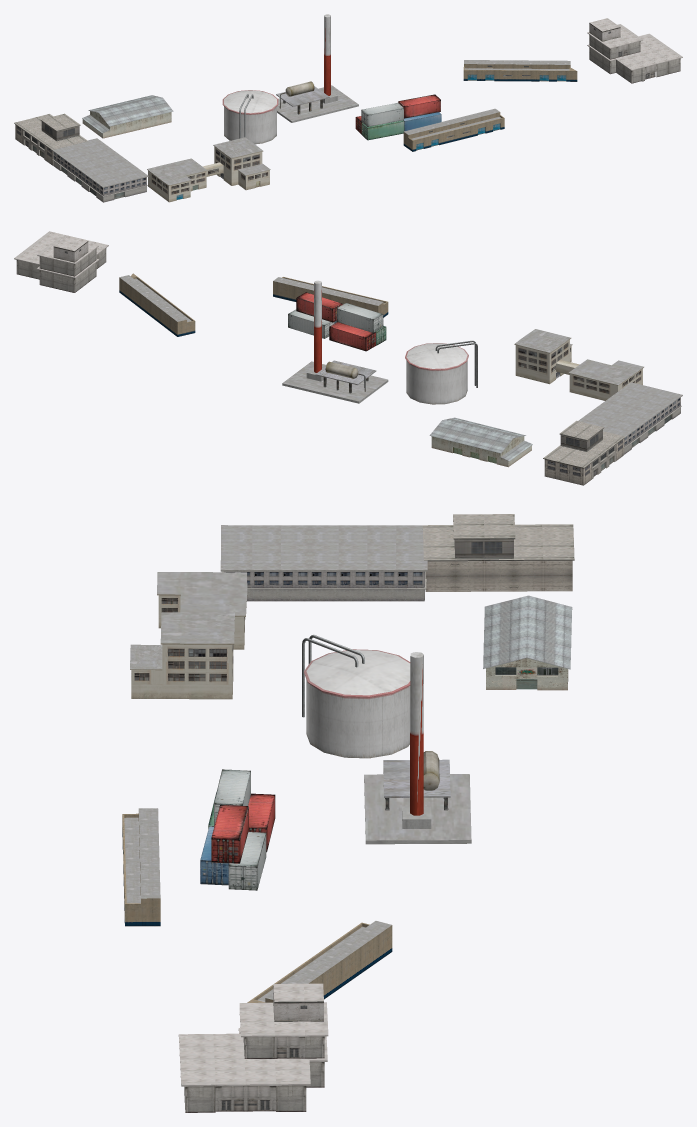
The model's file is industrial area.fbx.
The picture shows the model from 3 angles, top to bottom: view 1: azimuth 30°, elevation 25°; view 2: azimuth 150°, elevation 25°; view 3: azimuth 270°, elevation 25°; orthographic projection. The views are drawn at different scales.
Parts seen in each view (by area): view 1: Factory_H006.001, Industrial_G006.001, Industrial_H006.001, Industrial_N004.001, Industrial_Y015.001, Factory_C005.001, Factory_D004.001, Factory_D002.001, Industrial_F008.001, Industrial_White032.001, Industrial_Red023.001, Industrial_Green014.001 (+1 smaller); view 2: Factory_H006.001, Industrial_G006.001, Industrial_H006.001, Industrial_Y015.001, Industrial_F008.001, Industrial_N004.001, Factory_C005.001, Factory_D004.001, Factory_D002.001, Industrial_White032.001, Industrial_Red025.001, Industrial_Red023.001 (+1 smaller); view 3: Industrial_H006.001, Industrial_G006.001, Factory_H006.001, Industrial_Y015.001, Industrial_F008.001, Industrial_N004.001, Factory_C005.001, Factory_D004.001, Factory_D002.001, Industrial_Red023.001, Industrial_White029.001, Industrial_White032.001 (+2 smaller).
Boxes of the visible parts, x1,y1,x2,y2 form: Factory_H006.001: [147, 137, 270, 202]; Industrial_G006.001: [587, 18, 682, 83]; Industrial_H006.001: [51, 138, 148, 202]; Industrial_N004.001: [276, 14, 358, 122]; Industrial_Y015.001: [222, 90, 278, 144]; Factory_C005.001: [82, 95, 173, 138]; Factory_D004.001: [463, 60, 577, 81]; Factory_D002.001: [403, 108, 504, 151]; Industrial_F008.001: [14, 113, 87, 165]; Industrial_White032.001: [361, 103, 403, 126]; Industrial_Red023.001: [398, 94, 440, 118]; Industrial_Green014.001: [361, 120, 404, 140]; Factory_H006.001: [514, 329, 643, 400]; Industrial_G006.001: [14, 231, 108, 292]; Industrial_H006.001: [578, 382, 682, 454]; Industrial_Y015.001: [405, 340, 477, 404]; Industrial_F008.001: [543, 420, 625, 485]; Industrial_N004.001: [282, 280, 388, 403]; Factory_C005.001: [429, 417, 532, 467]; Factory_D004.001: [119, 273, 195, 336]; Factory_D002.001: [273, 277, 388, 317]; Industrial_White032.001: [336, 303, 383, 332]; Industrial_Red025.001: [329, 322, 375, 351]; Industrial_Red023.001: [296, 292, 342, 322]; Industrial_H006.001: [220, 525, 427, 601]; Industrial_G006.001: [178, 983, 328, 1112]; Factory_H006.001: [130, 572, 247, 699]; Industrial_Y015.001: [302, 634, 410, 758]; Industrial_F008.001: [422, 514, 574, 591]; Industrial_N004.001: [364, 652, 471, 844]; Factory_C005.001: [483, 595, 572, 690]; Factory_D004.001: [247, 921, 392, 1002]; Factory_D002.001: [122, 808, 160, 926]; Industrial_Red023.001: [211, 805, 248, 863]; Industrial_White029.001: [228, 832, 266, 890]; Industrial_White032.001: [214, 769, 250, 826].
Bounding box in the file's own units: 12500 × 1849 × 4286.
